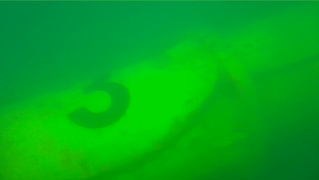3: (56, 73, 131, 130)
pipe: (1, 1, 318, 180)
